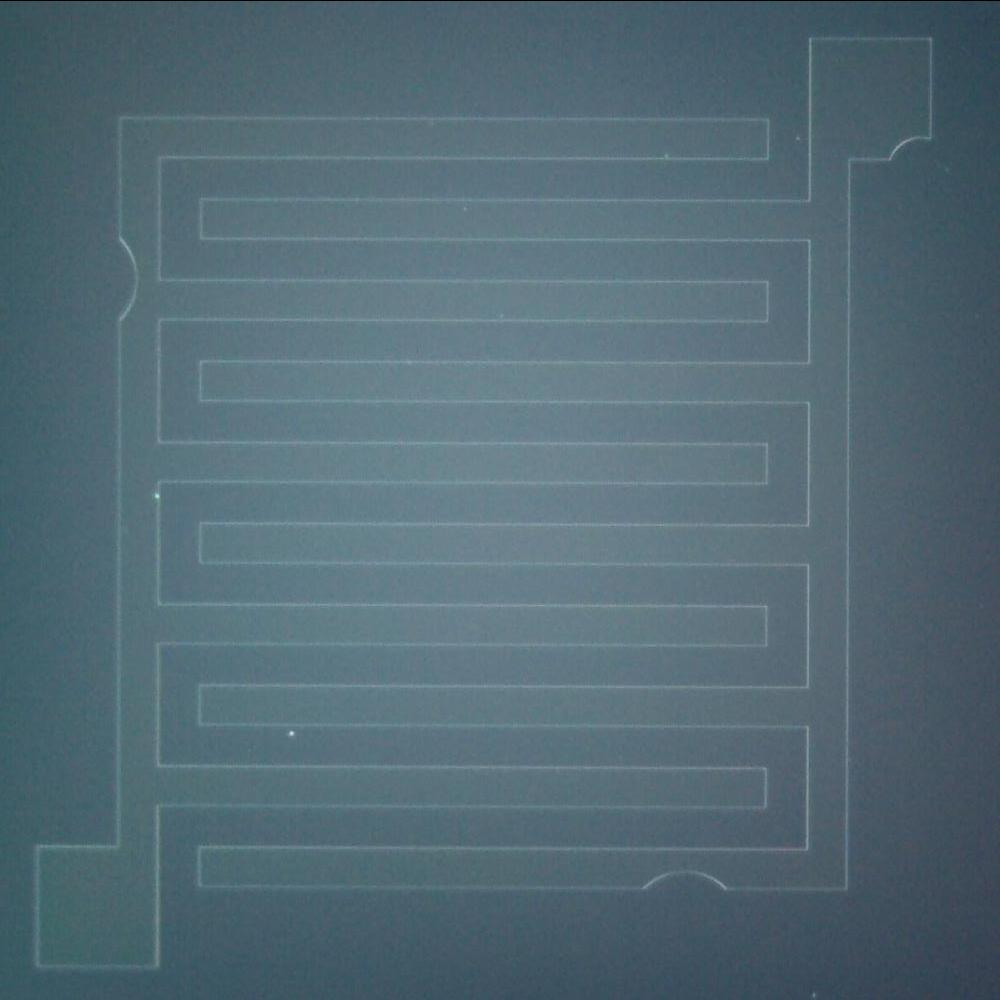curve circuit: (100, 223, 149, 336), (632, 862, 742, 910), (873, 122, 940, 173)
dot: (144, 484, 168, 511), (277, 720, 304, 743)
